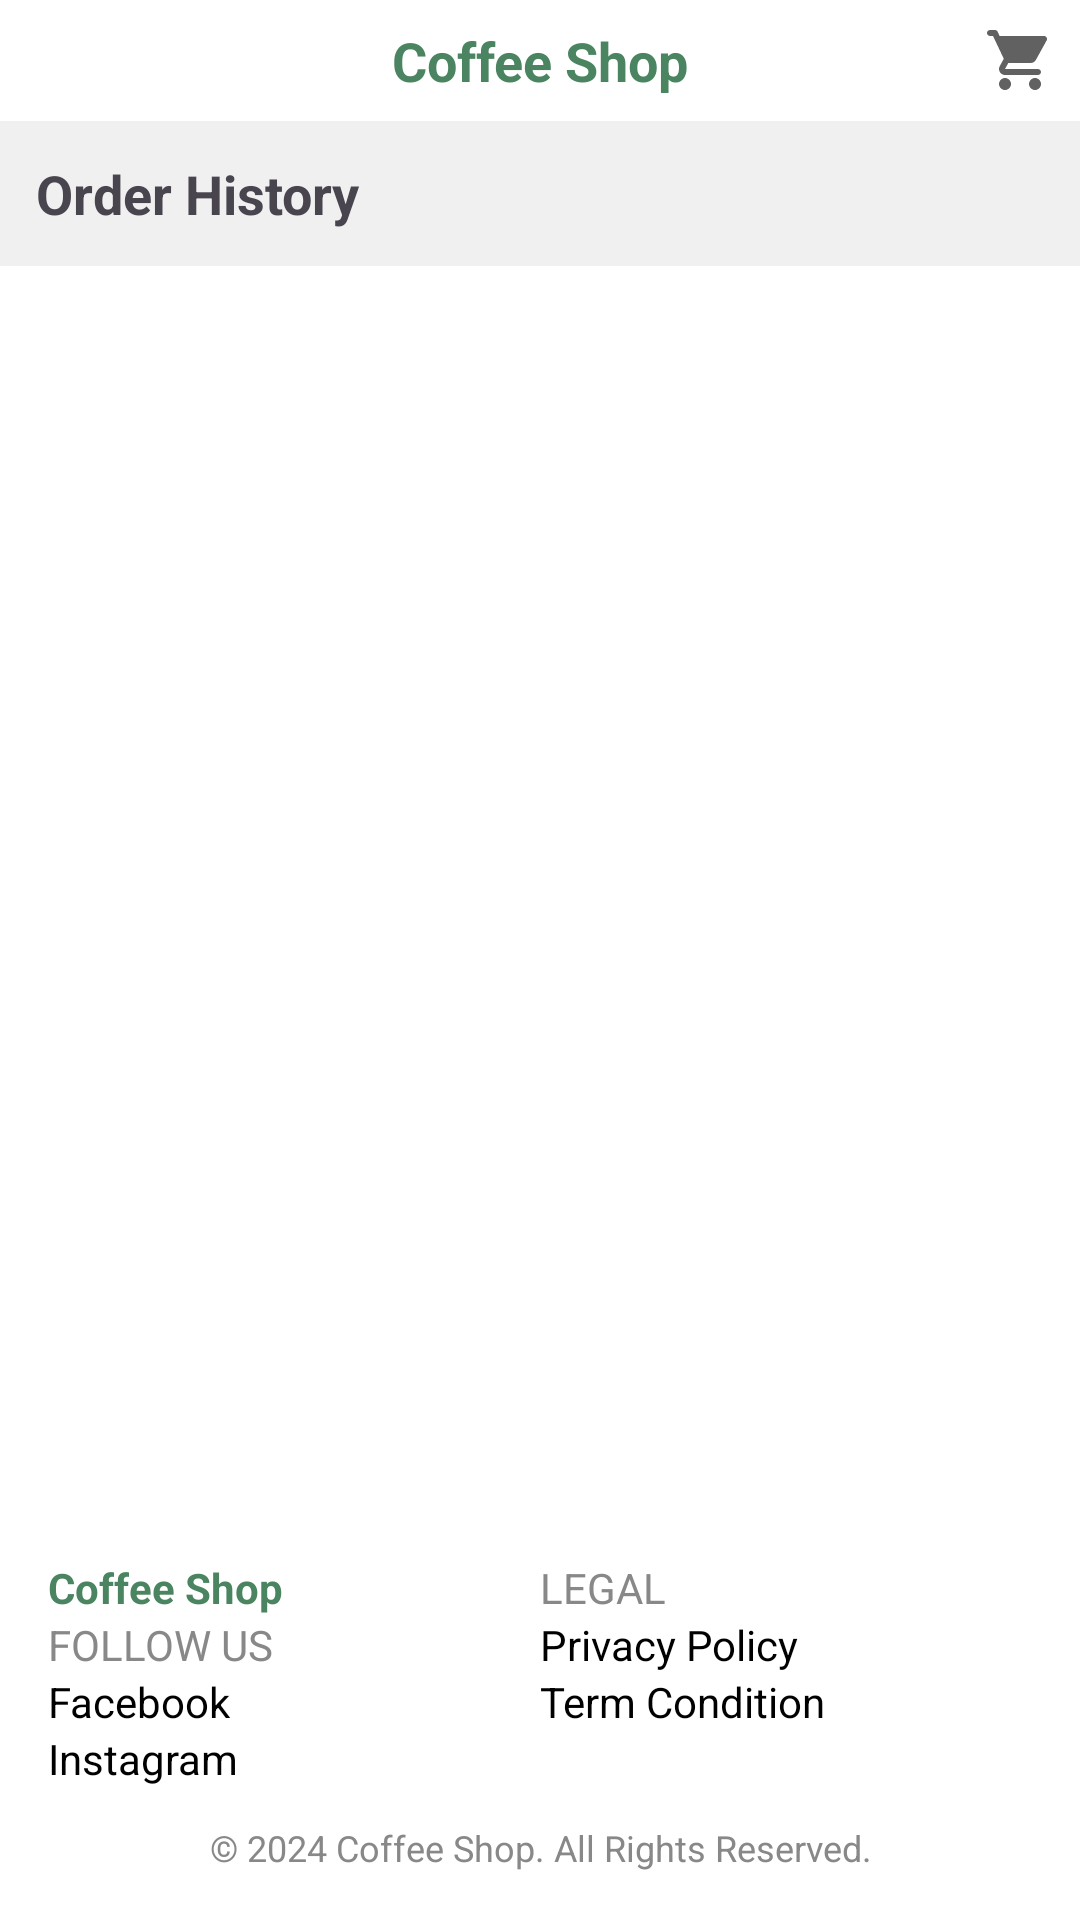

Icon bounding boxes for this 1080w x 1920h phone screenshot, format region(x1, y1, x2, y2):
Cart: region(987, 30, 1047, 90)
